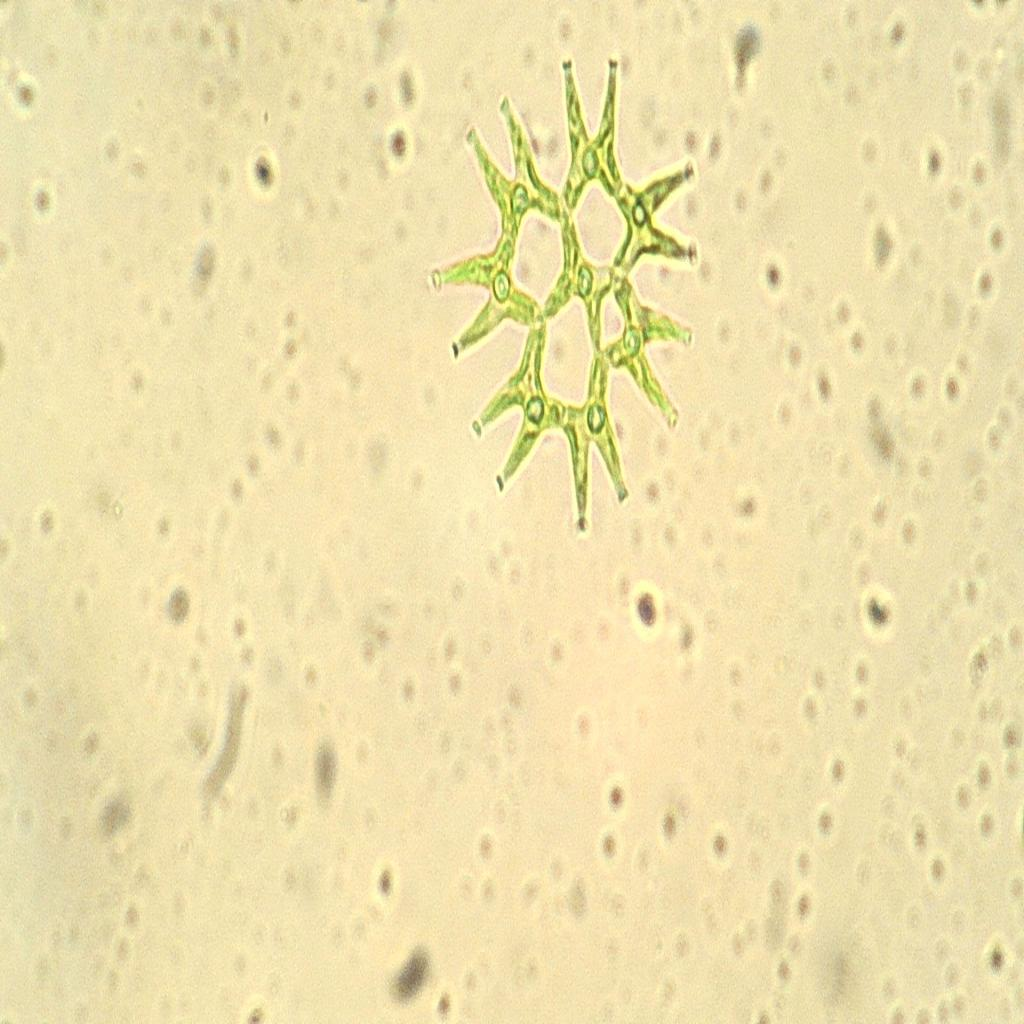Pediastrum_1T: (420, 37, 723, 556)
